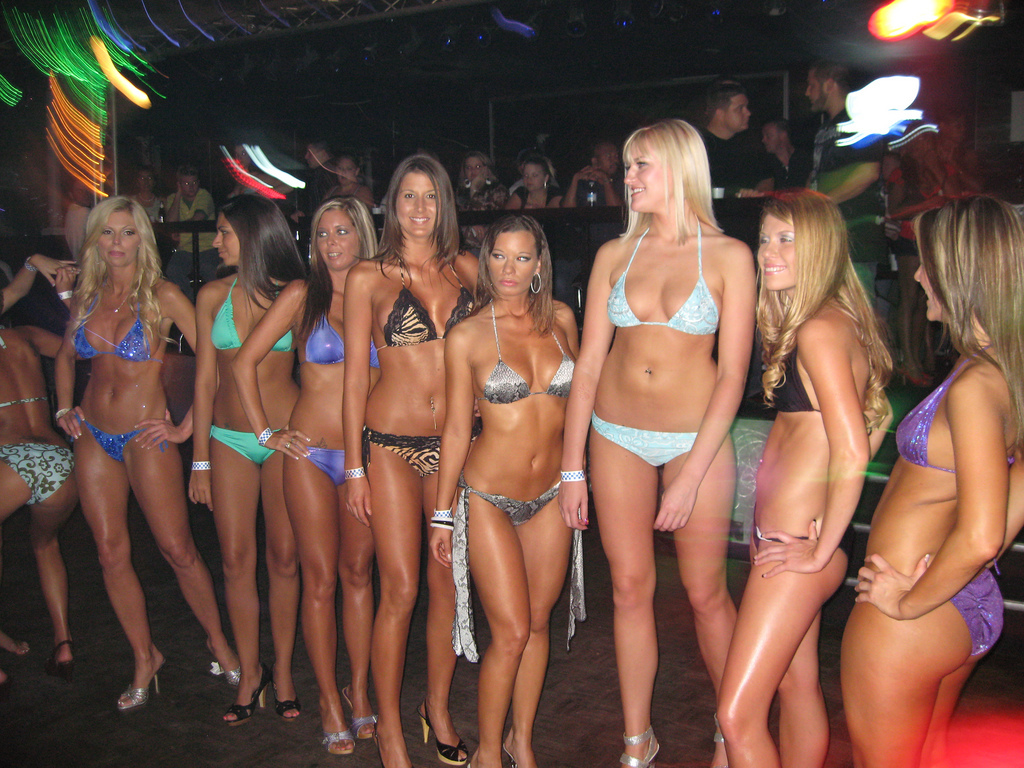Person: (0, 55, 1024, 768)
